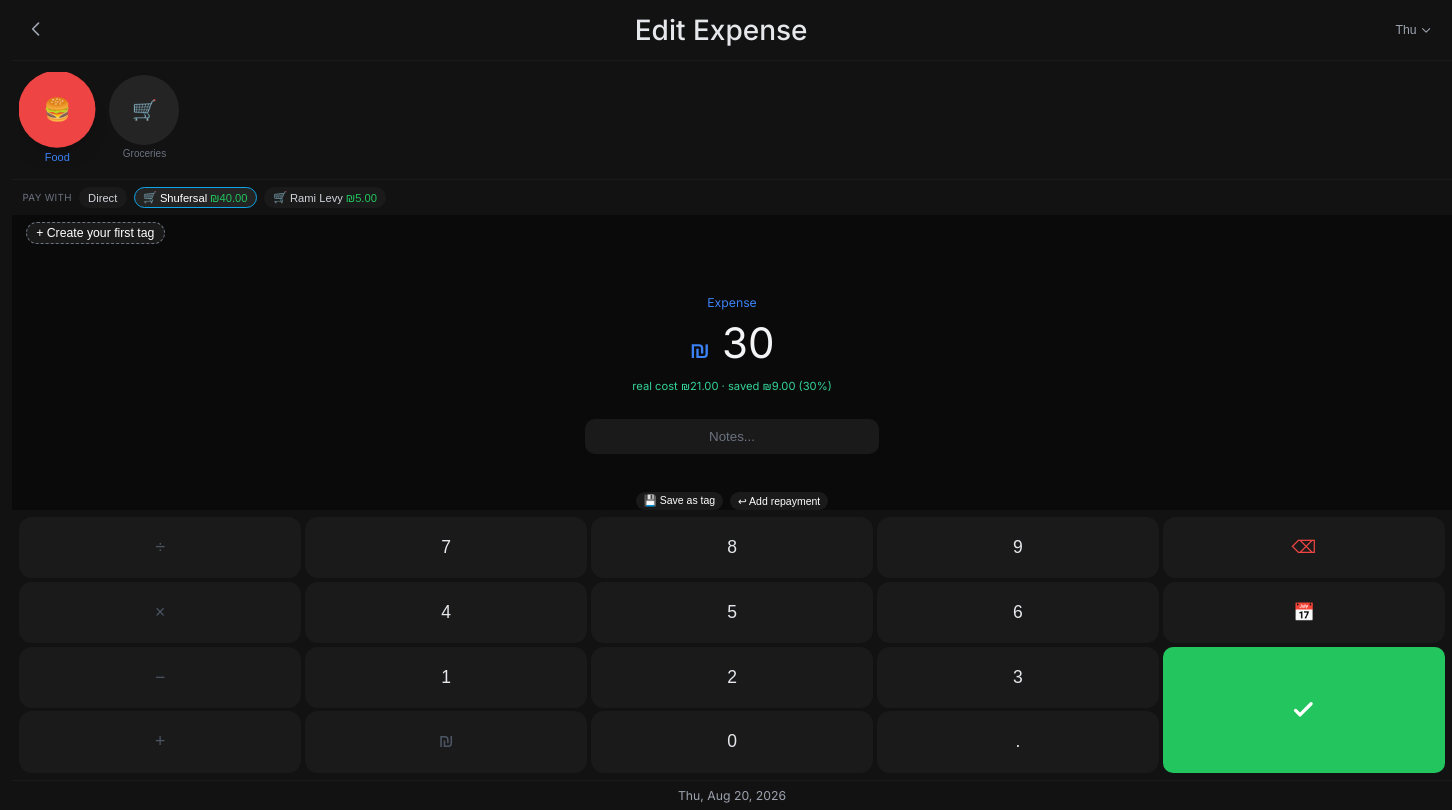
ExpenseQuickAdd — editing a prepaid-card expense › still blocks moving the purchase to a card that cannot cover it
Check: the text "30" is shown, box x1=722 y1=317 x2=774 y2=368
Click the button "🛒 Rami Levy ₪5.00" at (325, 198), box x1=264 y1=187 x2=386 y2=208
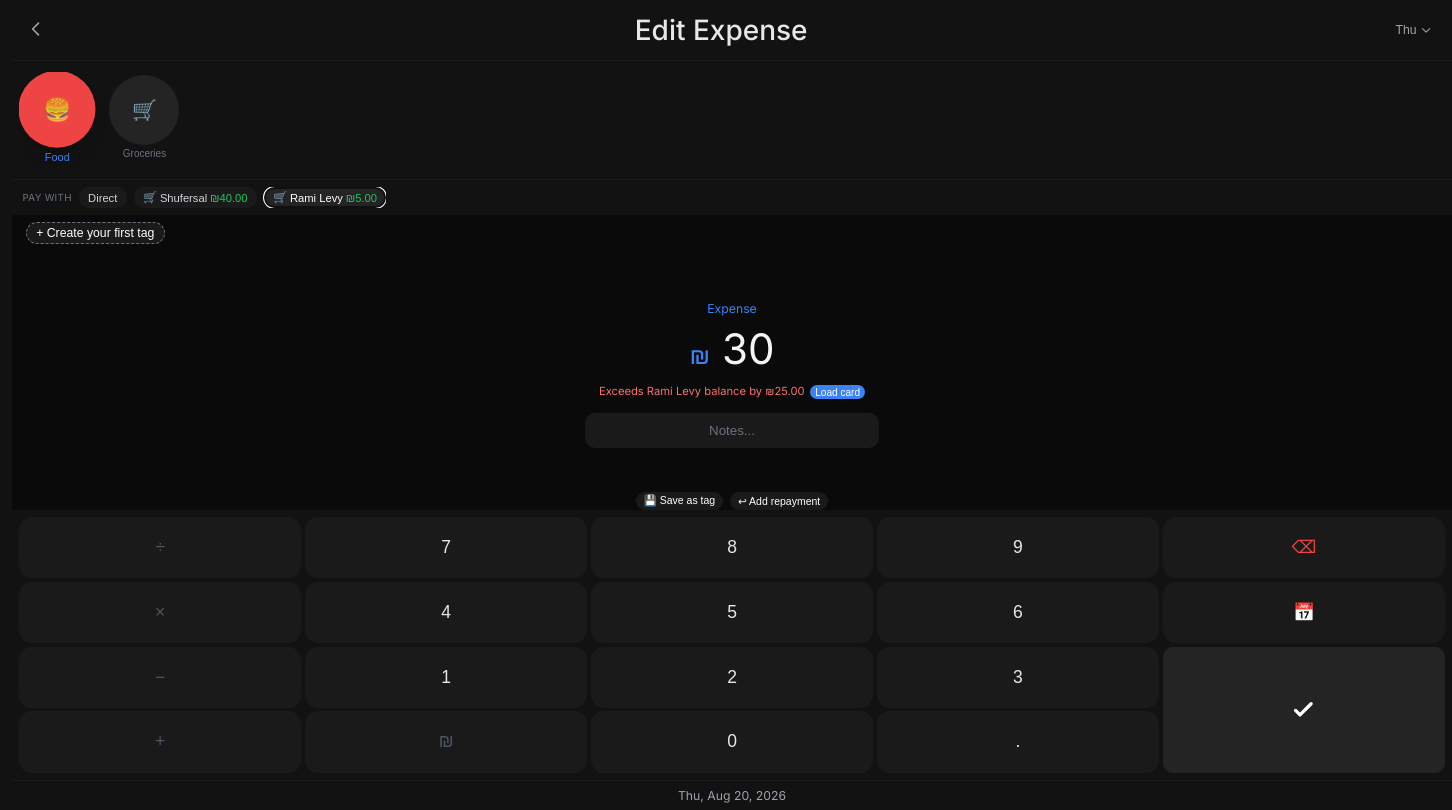
Check: the element with class "expense-quick-add__card-warning" is shown, box x1=599 y1=384 x2=865 y2=400
Check: the text "Exceeds Rami Levy balance by ₪25.00" is shown, box x1=599 y1=384 x2=805 y2=400
Check: the button with class "expense-quick-add__submit-key" is disabled, box x1=1163 y1=647 x2=1445 y2=773
